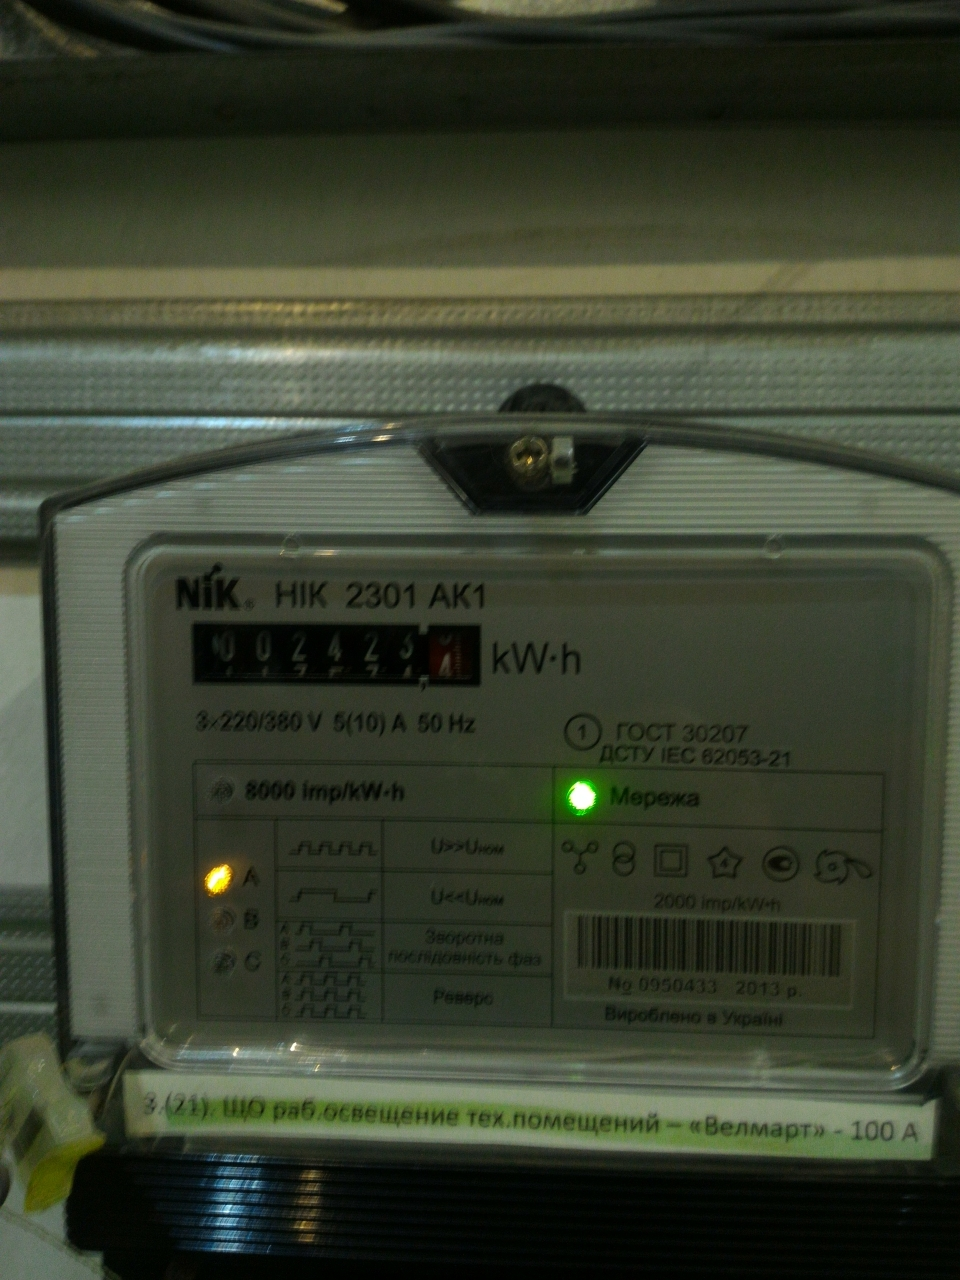0: (253, 629, 273, 663), (218, 628, 236, 663)
2: (360, 628, 382, 663), (289, 630, 308, 664)
3: (397, 629, 416, 660)
4: (325, 630, 344, 663), (436, 650, 453, 678)
screen: (179, 607, 496, 700)
